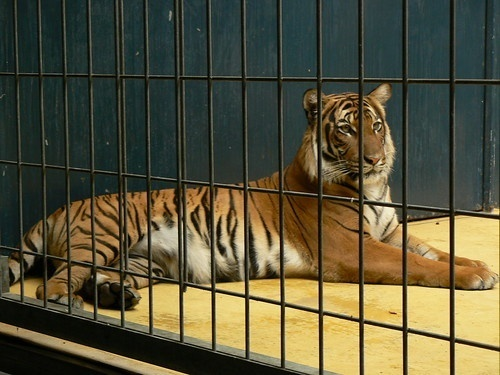tigre: (21, 82, 496, 309)
